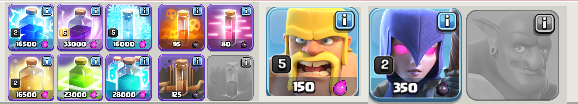barb: (267, 8, 359, 96)
bowler: (469, 11, 558, 99)
clone: (108, 56, 152, 101)
eq: (160, 55, 206, 101)
freeze: (107, 4, 152, 49)
haste: (211, 5, 254, 52)
heal: (9, 57, 55, 101)
jump: (58, 55, 102, 101)
lightening: (8, 4, 56, 52)
poison: (160, 5, 207, 52)
rage: (58, 5, 104, 52)
skeleton: (210, 57, 253, 99)
witch: (370, 10, 463, 98)
